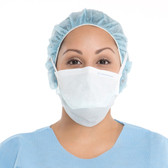with_mask_and_cap: (50, 10, 128, 128)
